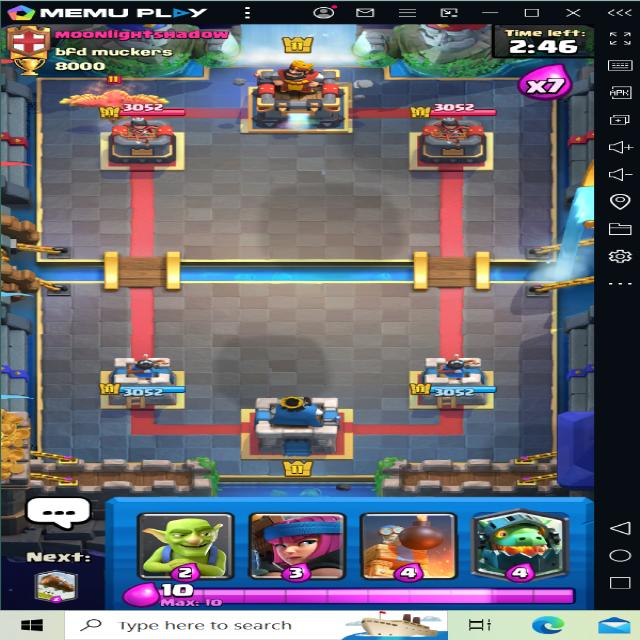Pheonix: (56, 76, 170, 133)
